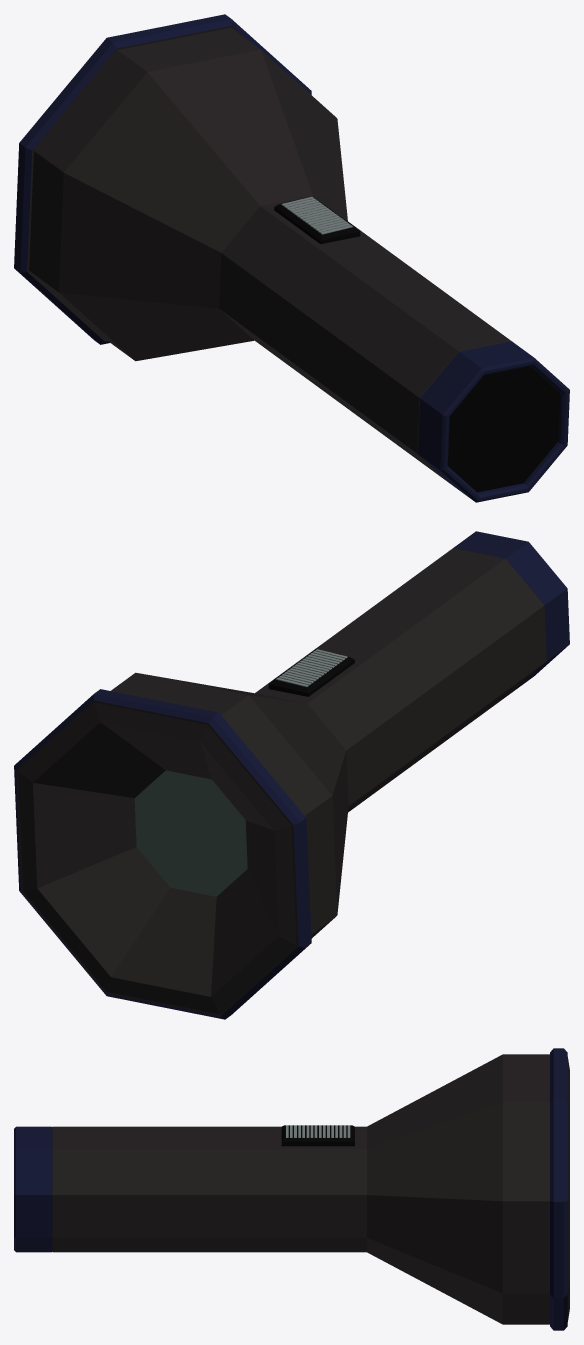
File: Linterna_ACA.fbx
The picture shows the model from 3 angles, top to bottom: view 1: azimuth 30°, elevation 25°; view 2: azimuth 150°, elevation 25°; view 3: azimuth 270°, elevation 25°; orthographic projection. The views are drawn at different scales.
Parts seen in each view (by area): view 1: Cilindro.001, Cilindro, Cubo.001, Cubo; view 2: Cilindro.001, Cilindro, Cubo.001, Cubo; view 3: Cilindro.001, Cilindro, Cubo, Cubo.001.
Boxes of the visible parts, bbox=[...] form: Cilindro.001: bbox=[14, 14, 511, 484]; Cilindro: bbox=[418, 341, 569, 502]; Cubo.001: bbox=[281, 196, 352, 234]; Cubo: bbox=[274, 196, 360, 244]; Cilindro.001: bbox=[14, 548, 546, 1019]; Cilindro: bbox=[453, 531, 569, 692]; Cubo.001: bbox=[276, 649, 347, 686]; Cubo: bbox=[268, 649, 354, 696]; Cilindro.001: bbox=[52, 1048, 569, 1330]; Cilindro: bbox=[14, 1126, 52, 1252]; Cubo: bbox=[281, 1125, 354, 1146]; Cubo.001: bbox=[286, 1125, 350, 1137].
Size of the model in its own units: 423 by 423 by 881.
